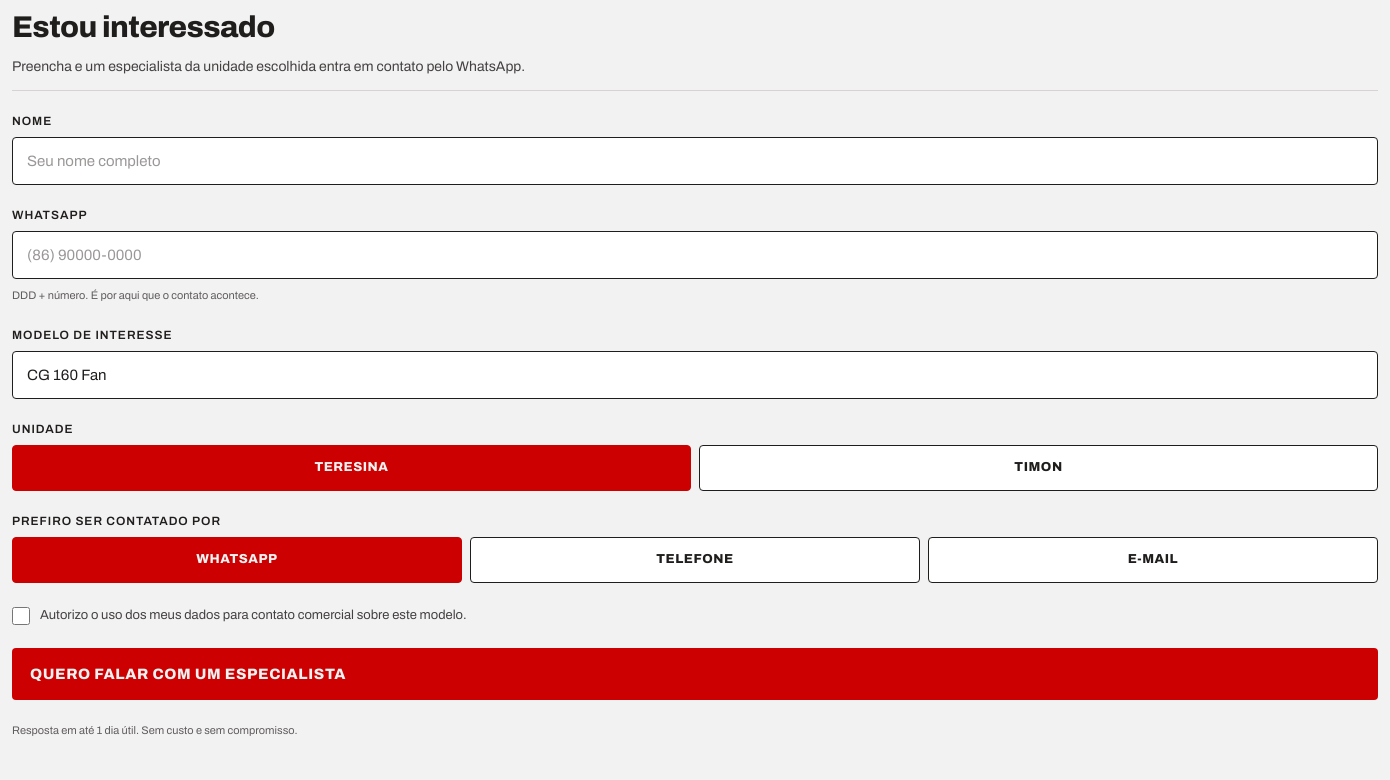
Test: validação no cliente › cobra nome e sobrenome
Type "Ricardo" into the field labelled "Nome". click: (695,161)
box: left=12, top=137, right=1378, bottom=185
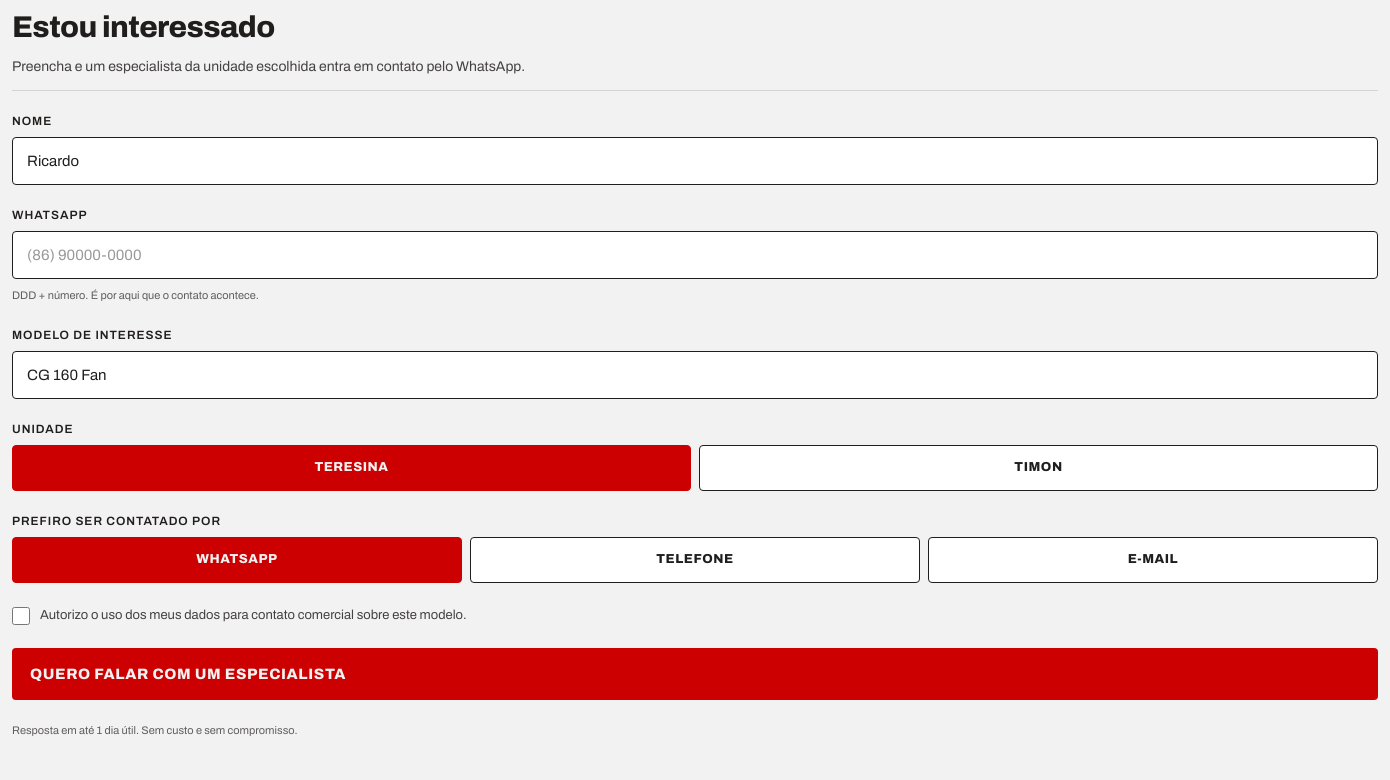
Click the button "Quero falar com um especialista". click: (188,674)
box: left=12, top=648, right=1378, bottom=700
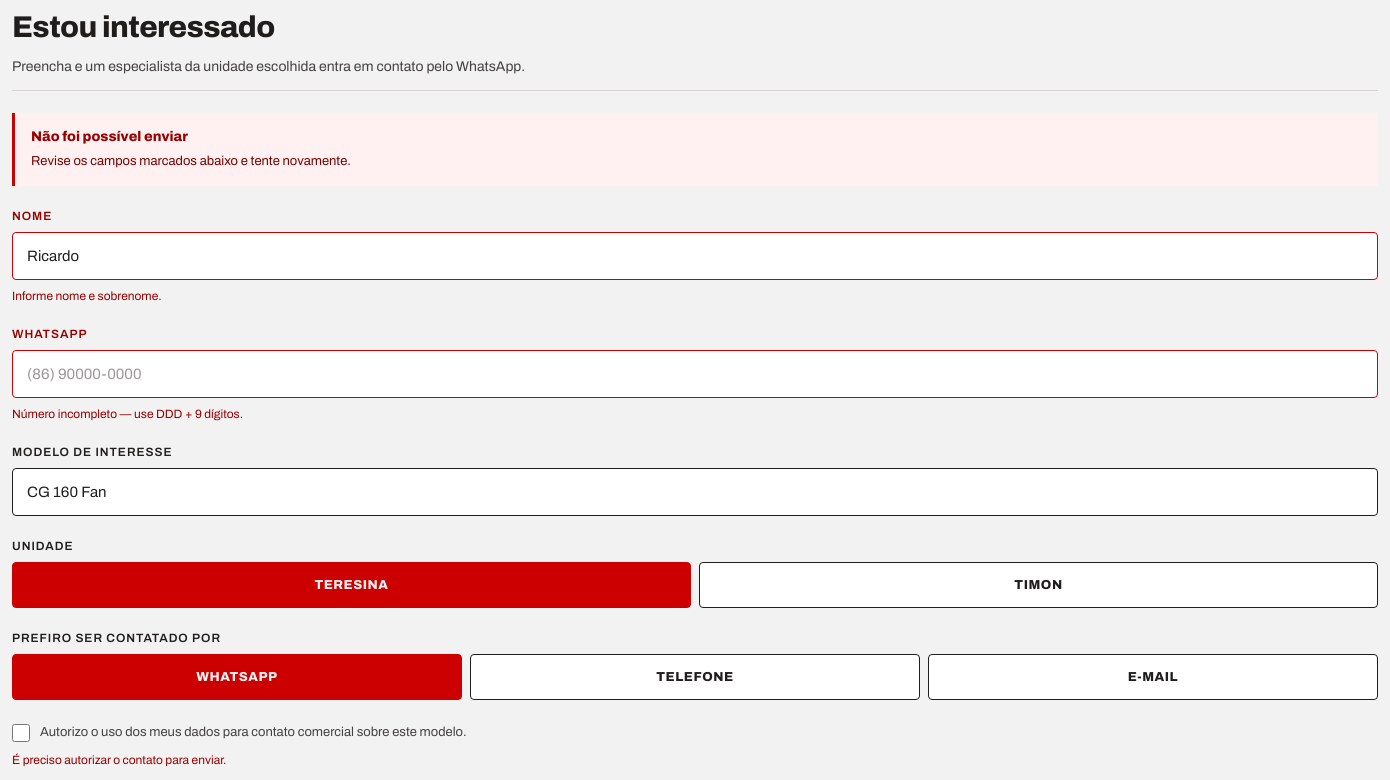
Expected: the text "Informe nome e sobrenome." is shown, left=12, top=289, right=162, bottom=303
